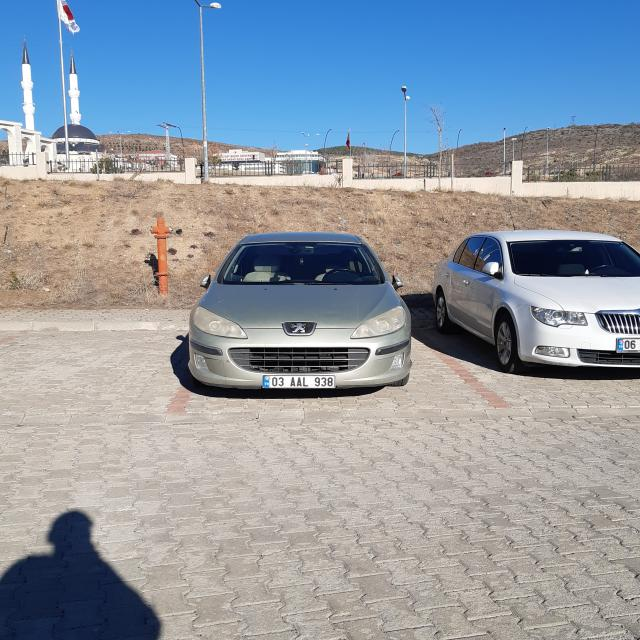license_plate: (262, 376, 334, 389)
